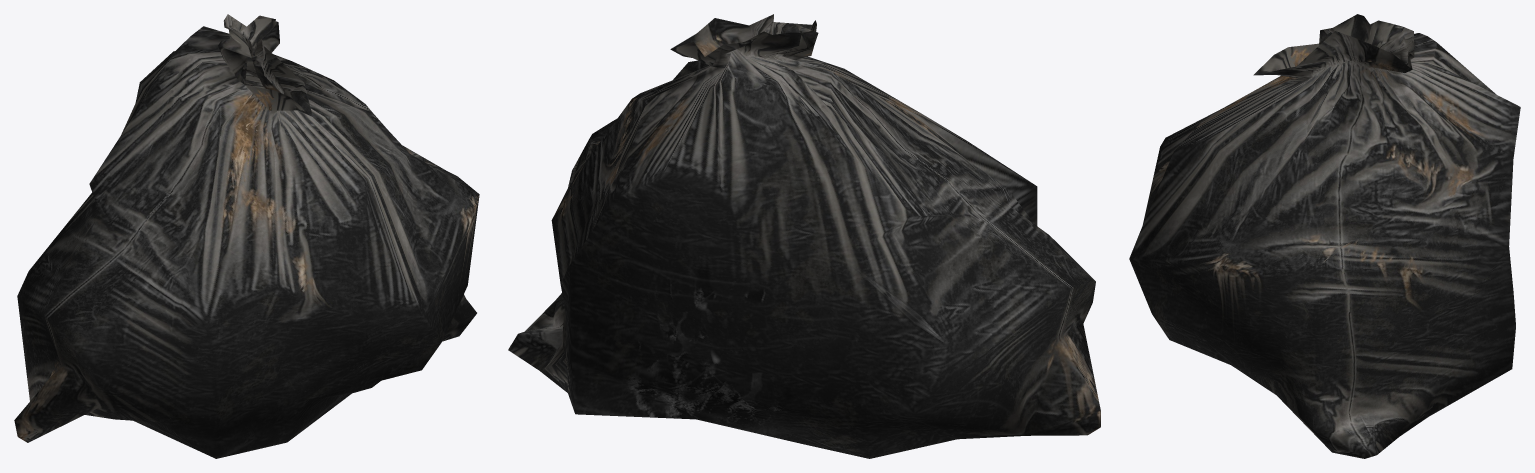
File: trash_bag_v2_free.glb
3 views of the same model, side by side, from view 1: azimuth 30°, elevation 25°; view 2: azimuth 150°, elevation 25°; view 3: azimuth 270°, elevation 25° (orthographic). The views are drawn at different scales.
Visible parts, largest first — view 1: trash_bag001; view 2: trash_bag001; view 3: trash_bag001.
Part boxes in pixels (x1=…): trash_bag001: x1=14, y1=14, x2=479, y2=458; trash_bag001: x1=508, y1=14, x2=1100, y2=458; trash_bag001: x1=1129, y1=14, x2=1520, y2=458.
Size of the model in its own units: 2 by 1.35 by 1.43.
Materials: 1 (1 with a texture image).
